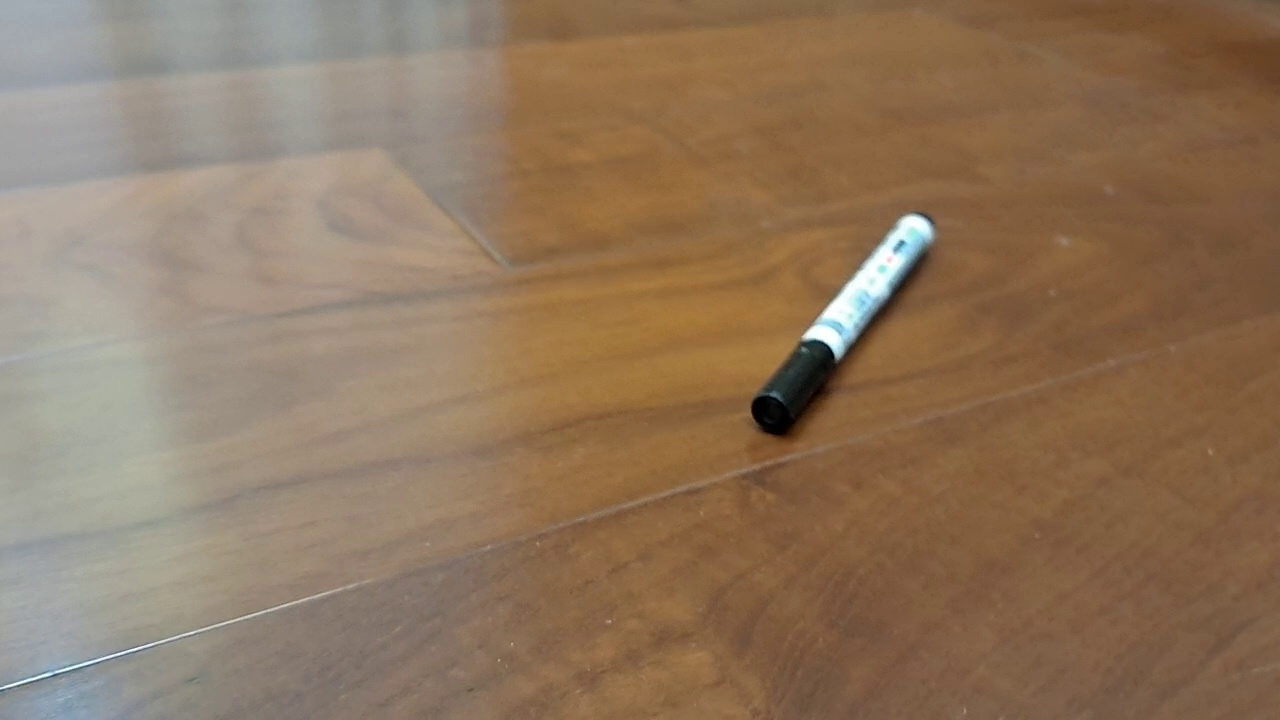pen: (749, 210, 938, 436)
